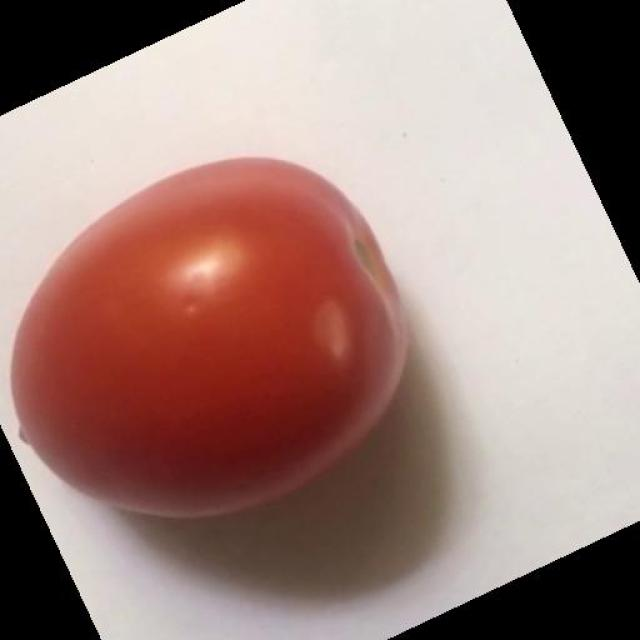ripe tomato: (5, 149, 417, 527)
